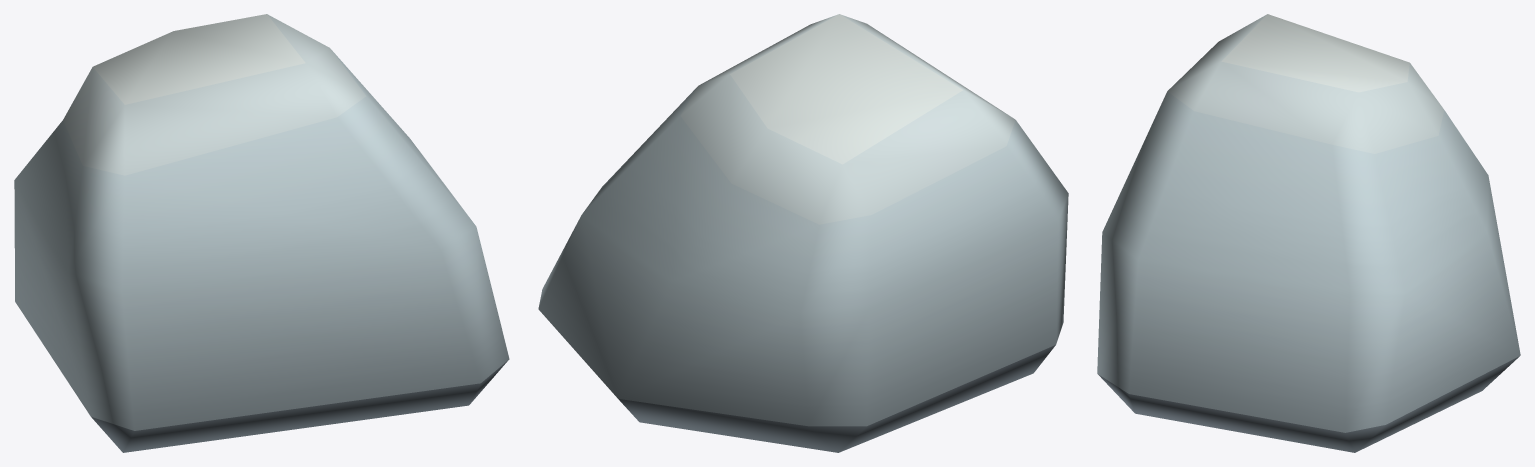
Rendered from rock_snow_01.fbx.
3 views of the same model, side by side, from view 1: azimuth 30°, elevation 25°; view 2: azimuth 150°, elevation 25°; view 3: azimuth 270°, elevation 25° (orthographic). The views are drawn at different scales.
Parts seen in each view (by area): view 1: rock_snow_01; view 2: rock_snow_01; view 3: rock_snow_01.
Boxes of the visible parts, x1,y1,x2,y2 form: rock_snow_01: [14, 14, 509, 452]; rock_snow_01: [538, 14, 1068, 452]; rock_snow_01: [1097, 14, 1520, 452].
Size of the model in its own units: 57.24 by 38.7 by 49.27.
1 material, 1 textured.
